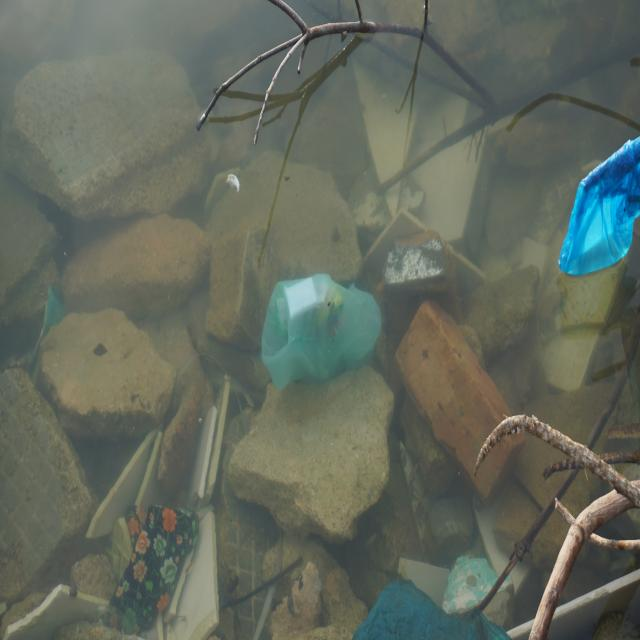Kantong Plastik: (259, 261, 386, 377), (559, 134, 640, 280)
